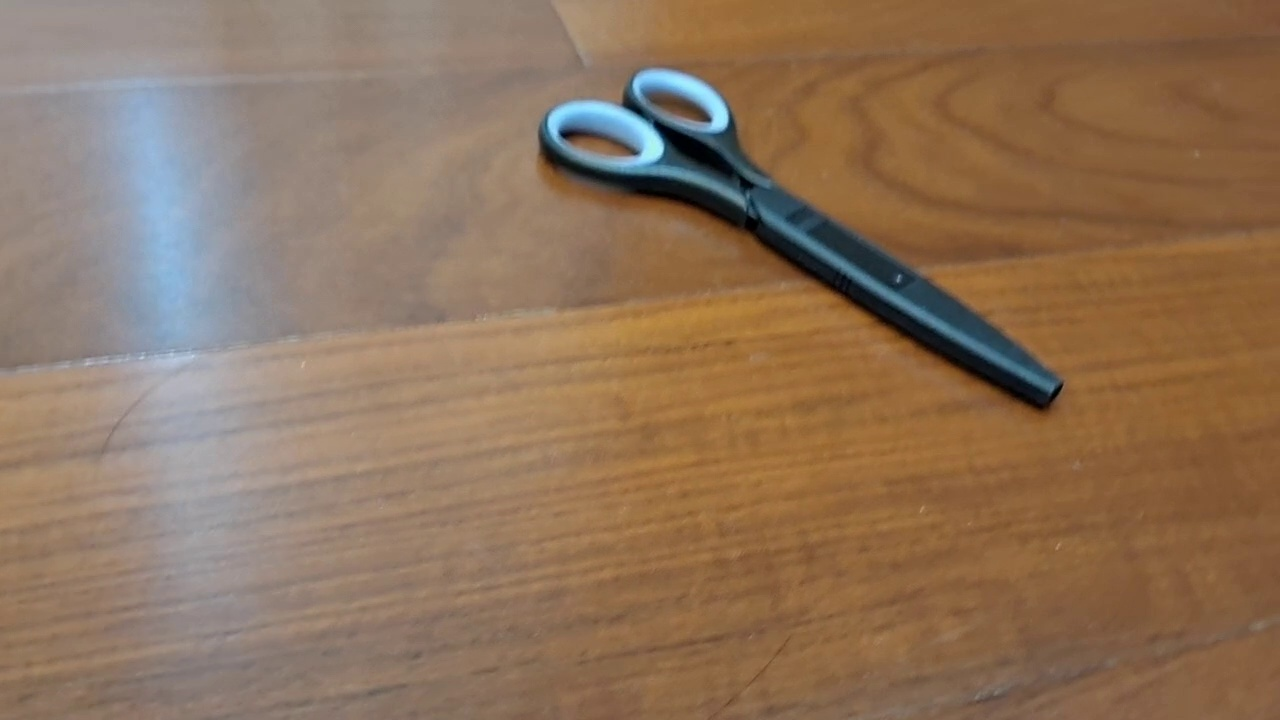scissors: (537, 64, 1066, 411)
